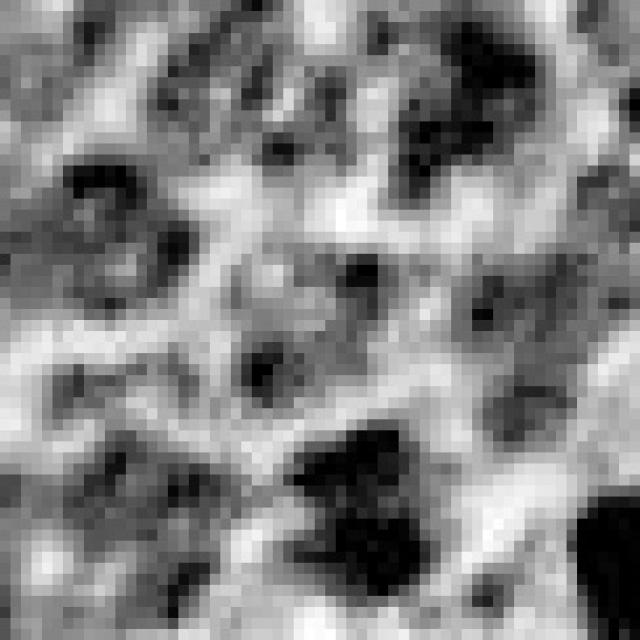inner: (214, 226, 440, 419)
lobe: (59, 423, 254, 622), (365, 5, 545, 209), (451, 241, 613, 463), (152, 0, 363, 170), (0, 154, 211, 323), (277, 416, 449, 609)
outer: (0, 0, 640, 640)
